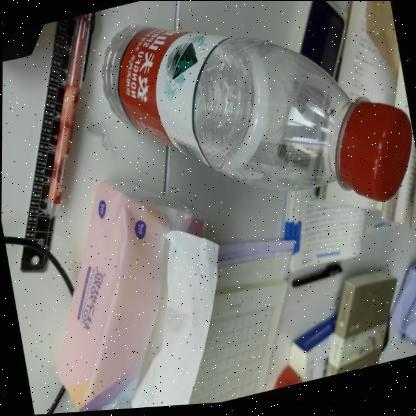Plastic Bottle: (101, 24, 412, 202), (55, 180, 209, 412)
